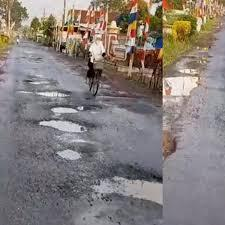Pothole: (68, 163, 157, 225), (161, 40, 218, 105), (25, 111, 96, 142), (34, 99, 115, 123), (45, 134, 88, 166), (101, 85, 153, 109), (153, 118, 182, 160), (16, 86, 88, 97), (21, 72, 56, 86)
